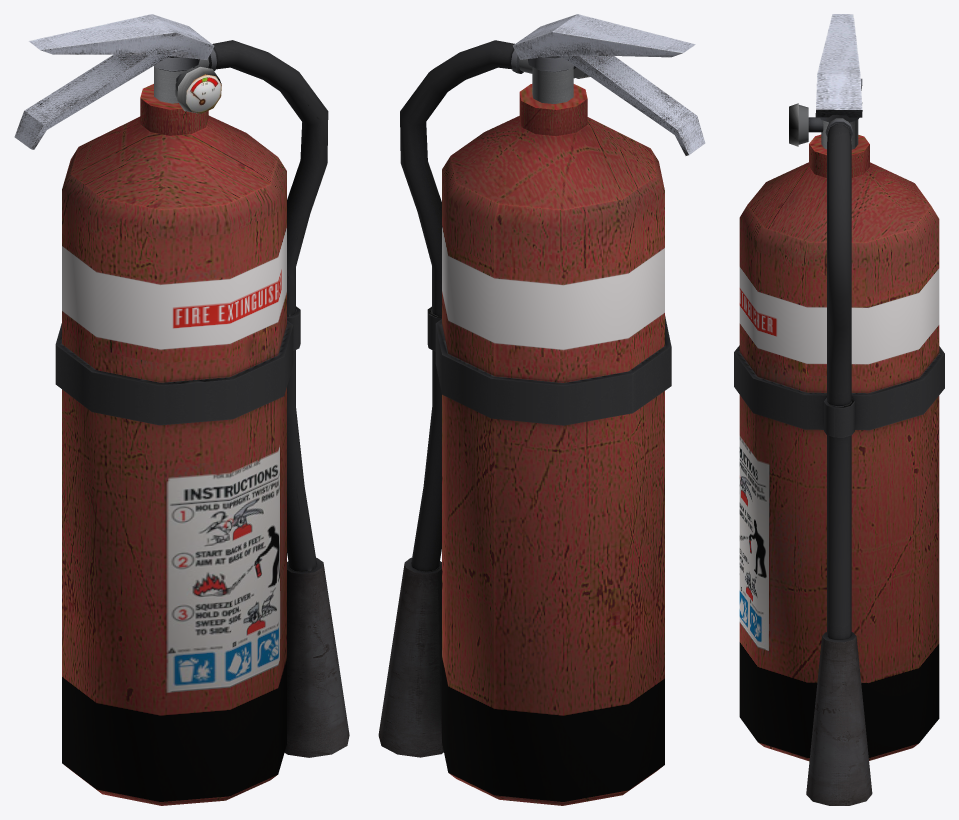
File: Extinguisher.FBX
3 renders of one model, left to right at view 1: azimuth 30°, elevation 25°; view 2: azimuth 150°, elevation 25°; view 3: azimuth 270°, elevation 25°, orthographic. The views are drawn at different scales.
Visible parts, largest first — view 1: Extinguisher; view 2: Extinguisher; view 3: Extinguisher.
Part boxes in pixels (x1=…): Extinguisher: x1=14, y1=14, x2=349, y2=805; Extinguisher: x1=378, y1=14, x2=705, y2=805; Extinguisher: x1=734, y1=14, x2=944, y2=805.
Size of the model in its own units: 257 by 170 by 591.
1 material, 1 textured.
